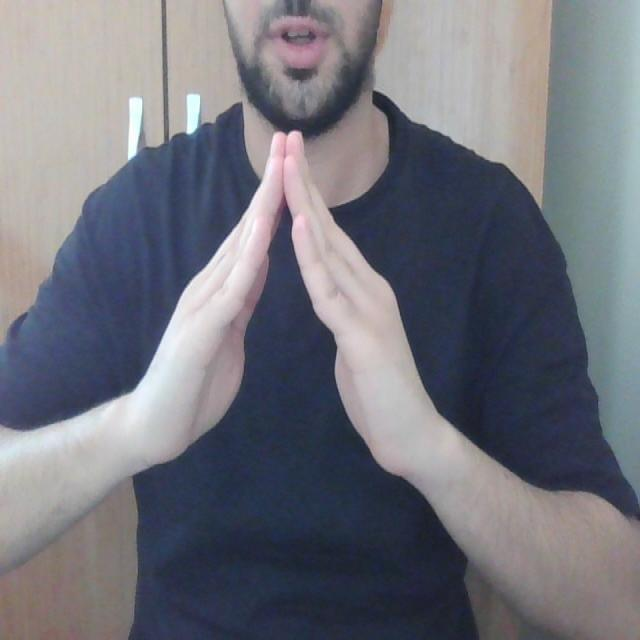Ev: (124, 125, 433, 494)
